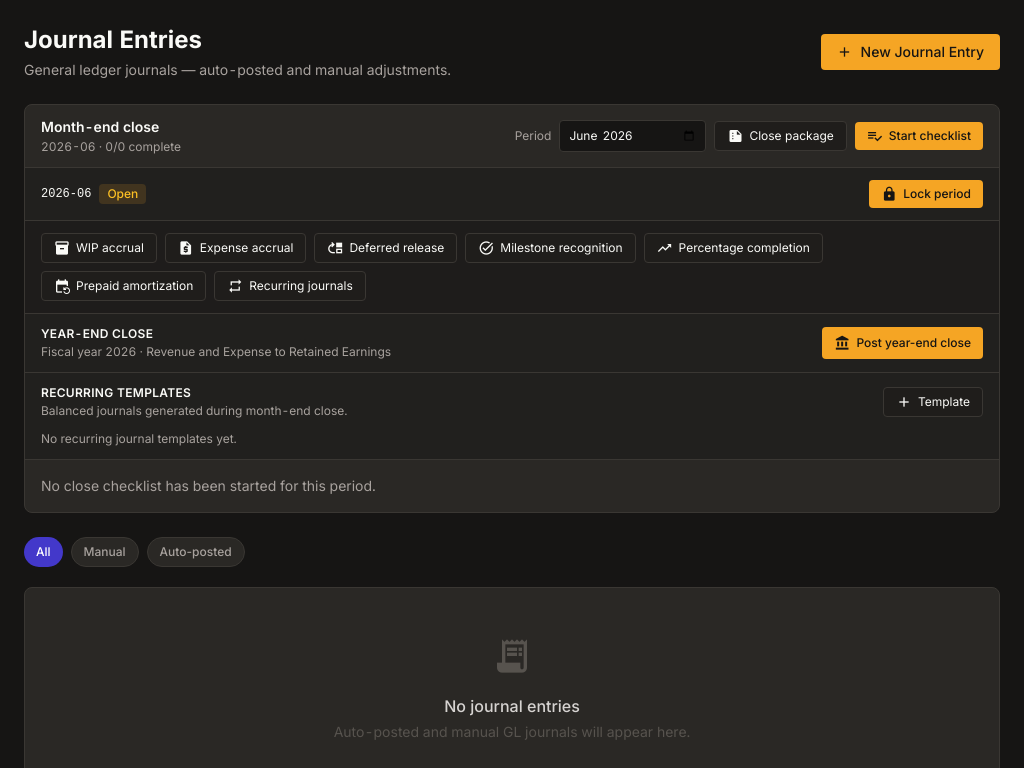
Test: JournalEntriesListComponent close period › surfaces lock API blockers and keeps the confirmed period state unchanged
The image size is (1024, 768).
Click the button "Lock period" at (926, 194), box [869,180,983,208]
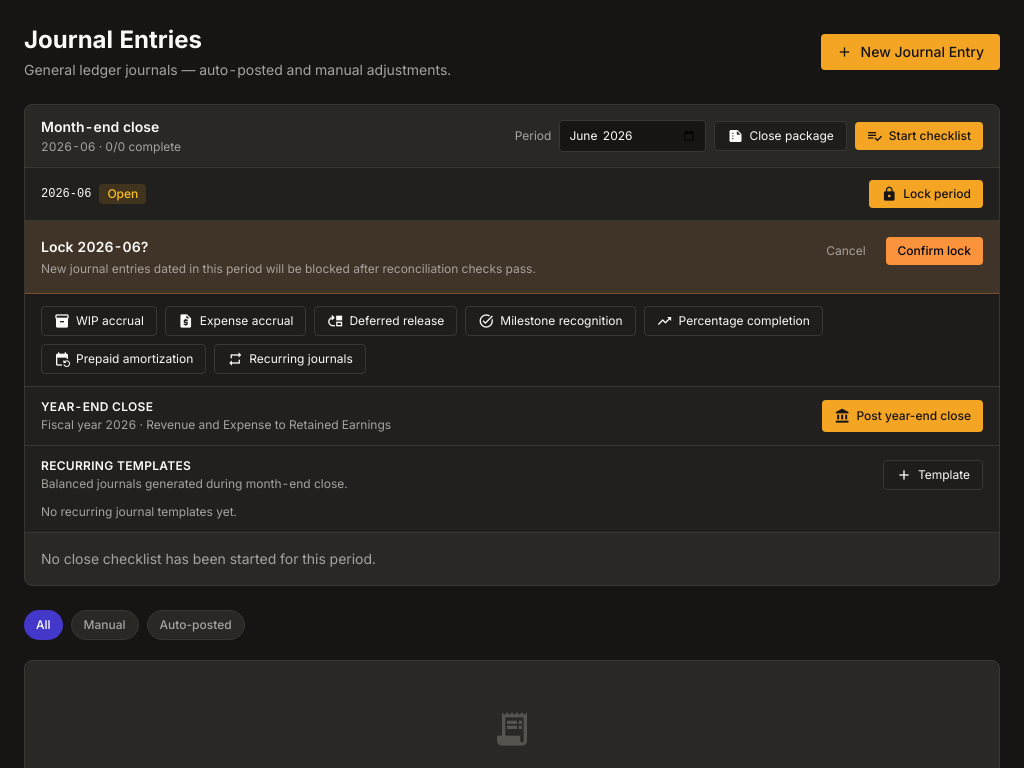
Click the button "Confirm lock" at (934, 251), box [886,237,983,265]
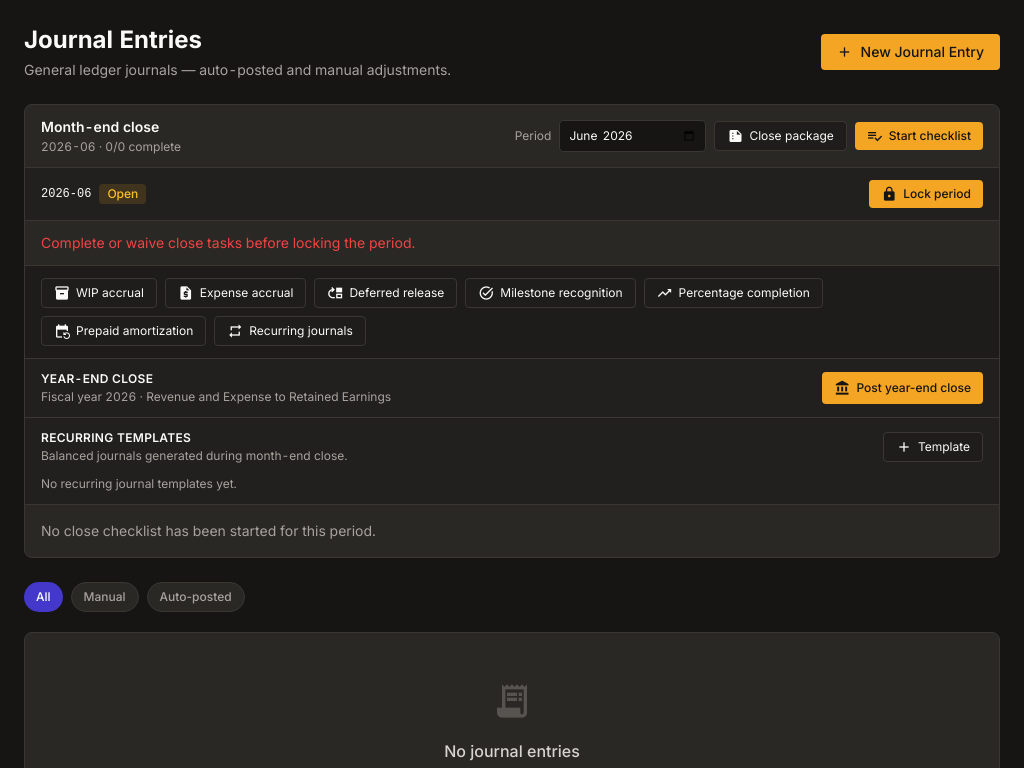
Check: the element named "Period close status" shows "Open", box [107,186,138,201]
Check: the text named "Period close status" no longer shows "locked"
Check: the message "Complete or waive close tasks before locking the period." is shown, box [25,221,999,266]
